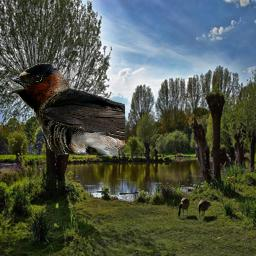Swallow: (6, 63, 125, 157)
